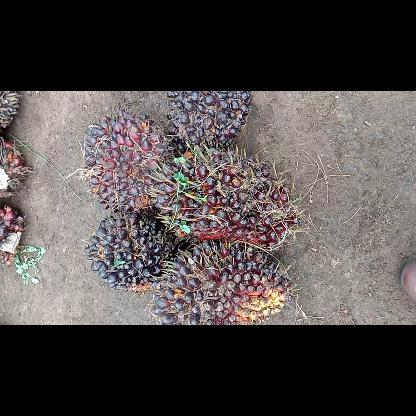TBS mentah: (154, 142, 304, 254), (150, 240, 294, 324), (80, 107, 180, 221), (82, 207, 188, 293), (163, 90, 255, 158)
